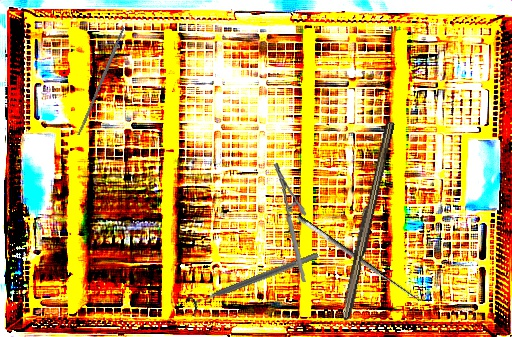Fixation Ring: (183, 244, 323, 318)
Hook Surgical: (295, 204, 432, 309)
Needle Holder: (261, 162, 318, 283)
Scalpel Handle: (338, 119, 395, 322), (76, 26, 127, 137)
